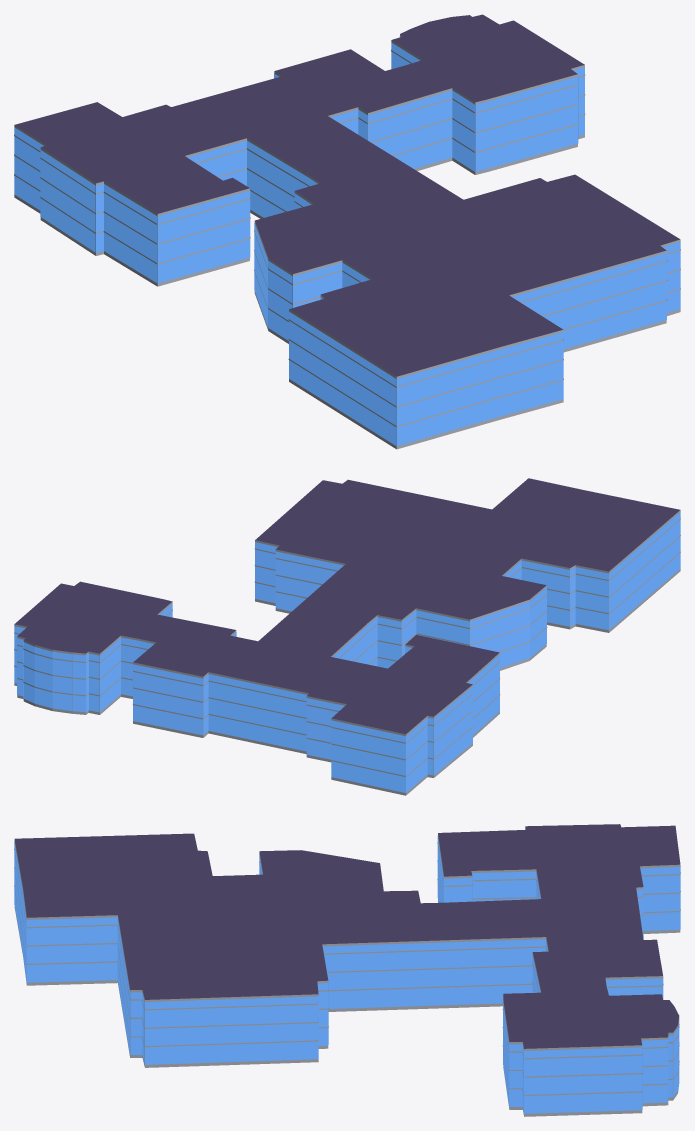
File: core-spencer-engineering-building.glb
3 views of the same model, one above another, from view 1: azimuth 30°, elevation 25°; view 2: azimuth 150°, elevation 25°; view 3: azimuth 270°, elevation 25° (orthographic). The views are drawn at different scales.
Visible parts, largest first — view 1: campus/core-spencer-engineering-building-0; view 2: campus/core-spencer-engineering-building-0; view 3: campus/core-spencer-engineering-building-0.
Boxes of the visible parts, x1=… form: campus/core-spencer-engineering-building-0: x1=14, y1=14, x2=680, y2=449; campus/core-spencer-engineering-building-0: x1=14, y1=478, x2=680, y2=795; campus/core-spencer-engineering-building-0: x1=14, y1=824, x2=680, y2=1116.
Bounding box in the file's own units: 94.51 × 13.3 × 118.
